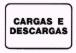Indicadores de aplicacao: (6, 3, 72, 48)
